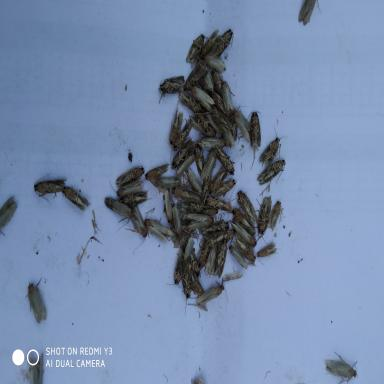pbw: (256, 123, 285, 169), (180, 42, 206, 93), (20, 278, 48, 325), (323, 349, 360, 384), (166, 240, 194, 286), (194, 280, 231, 313), (194, 138, 219, 186), (256, 151, 287, 187), (165, 98, 186, 151), (31, 170, 68, 200), (101, 193, 134, 226), (153, 72, 185, 105), (60, 181, 91, 215), (227, 204, 256, 240), (246, 109, 263, 170), (114, 158, 146, 188), (196, 24, 220, 64), (256, 191, 274, 244), (141, 214, 172, 244), (232, 102, 255, 142), (188, 76, 214, 111), (0, 188, 17, 241), (182, 29, 207, 65), (220, 261, 251, 289), (122, 210, 150, 240), (22, 349, 46, 382), (254, 240, 282, 268), (168, 144, 196, 172), (180, 258, 195, 310), (295, 0, 322, 28), (186, 207, 216, 232), (212, 26, 236, 57), (176, 88, 202, 116), (203, 46, 228, 75), (215, 142, 236, 176), (227, 240, 248, 274), (268, 195, 286, 234), (236, 234, 256, 269), (194, 130, 227, 151), (171, 119, 193, 150), (117, 188, 151, 208), (181, 162, 202, 194), (189, 270, 208, 305), (109, 176, 142, 196), (209, 106, 233, 132), (177, 232, 195, 266), (201, 105, 220, 136), (142, 159, 170, 180), (193, 106, 211, 138), (157, 190, 175, 222), (213, 177, 238, 200), (219, 79, 236, 112), (200, 229, 231, 247), (197, 63, 215, 92), (167, 186, 196, 204), (154, 170, 181, 188), (204, 244, 219, 276), (205, 196, 234, 212), (210, 168, 227, 194), (209, 68, 225, 95), (146, 174, 167, 194), (171, 205, 184, 235), (204, 205, 218, 217)
